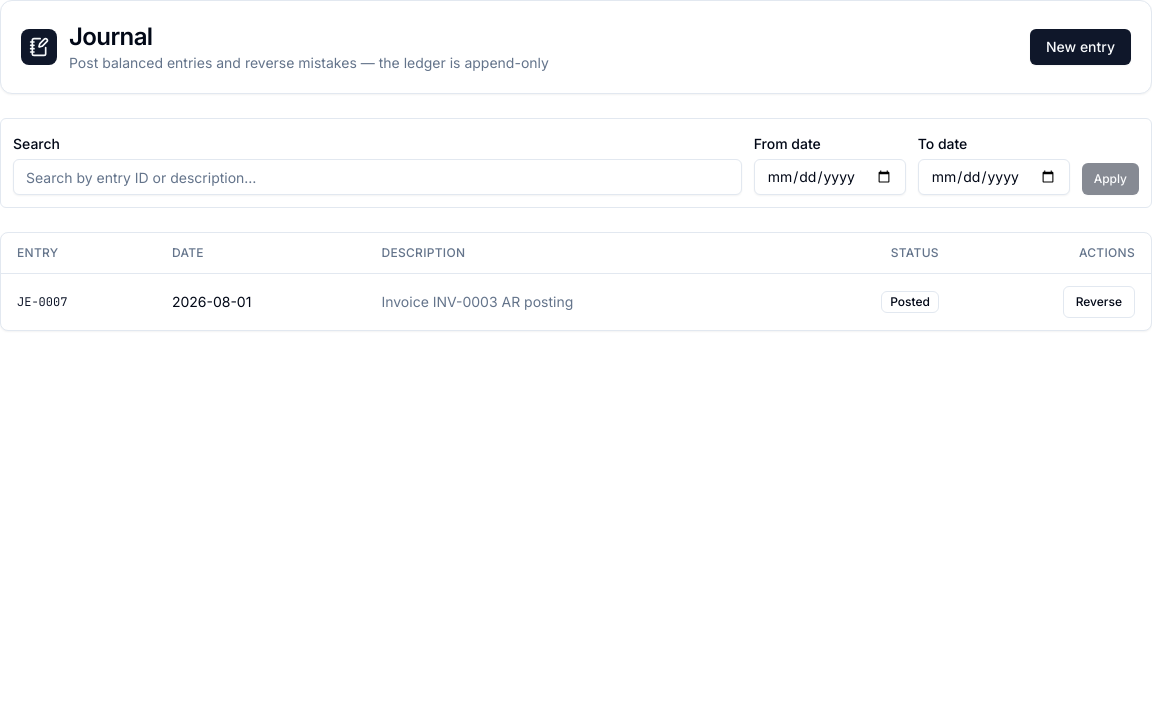
Test: JournalView — clickable entries open the detail modal › opens the detail modal from the entry id and shows lines + actor metadata + source link
This screenshot has width=1152, height=720.
// The entry reference is rendered as a clickable JE-0007 link.
Click the button with aria-label "View entry details". click: x=42, y=302
box: [17,294,67,310]
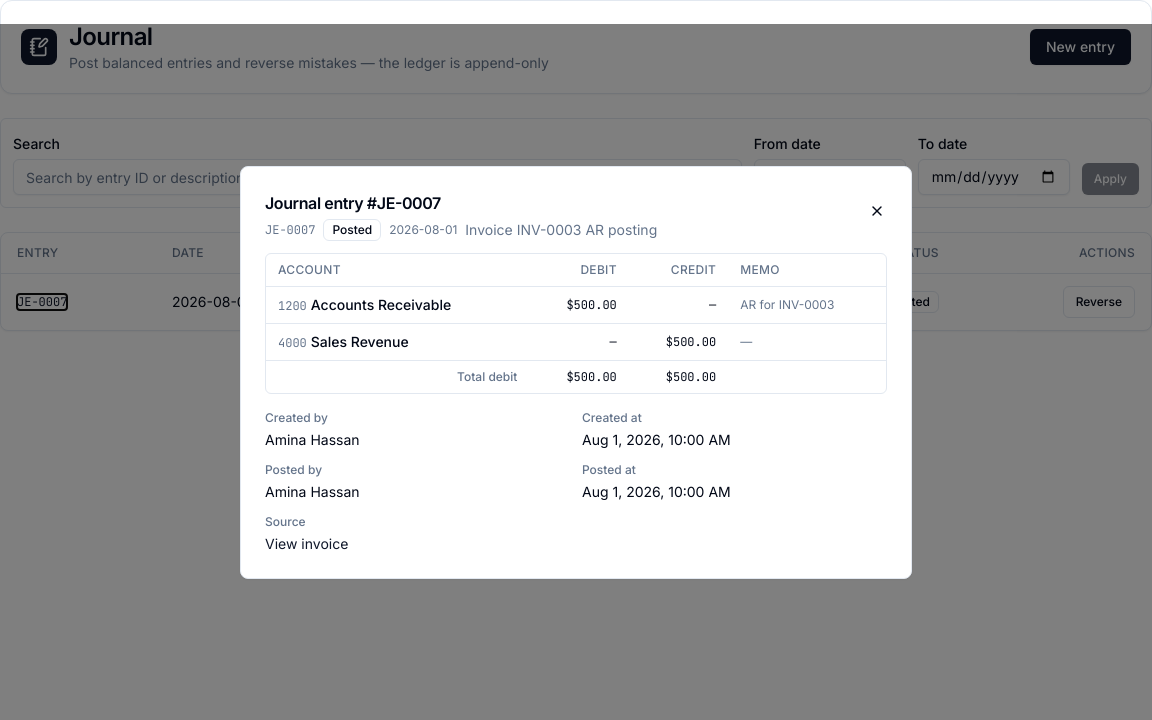
Now the heading "Journal entry #JE-0007" is shown, box [265,192,441,212]
Now the text "1200" is shown, box [278,298,307,314]
Now the text "Accounts Receivable" is shown, box [311,296,451,312]
